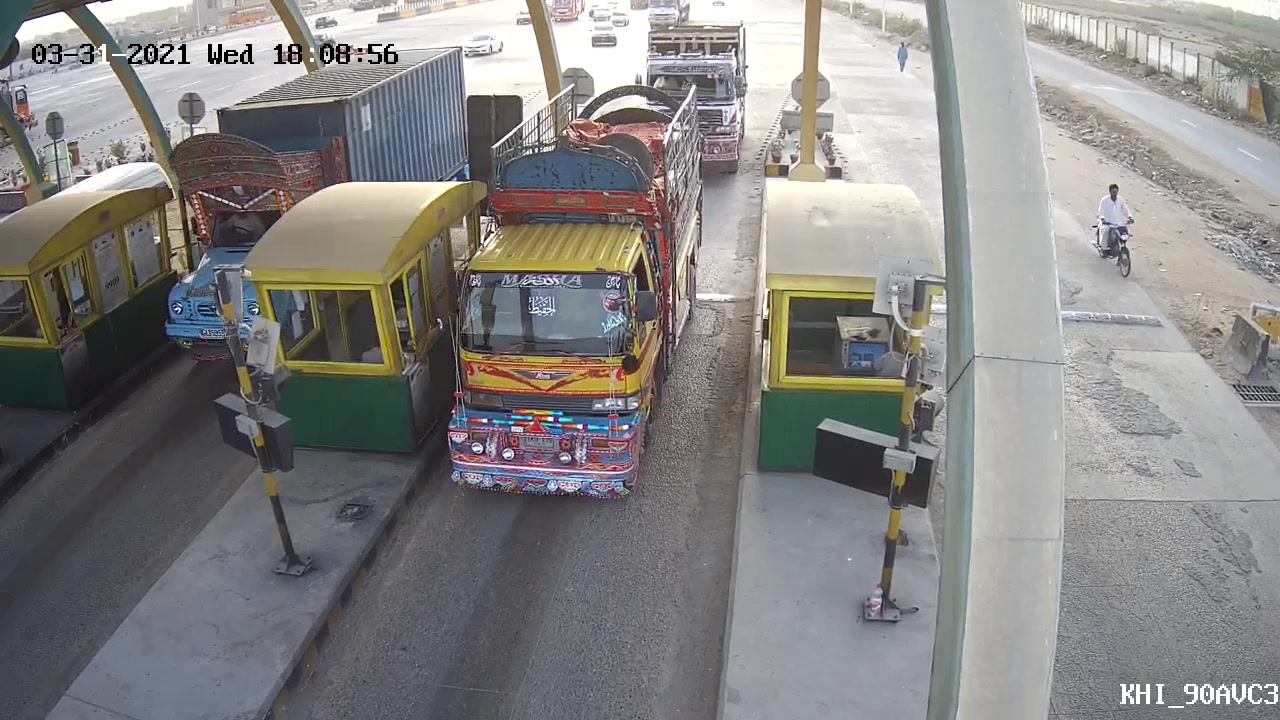F5: (432, 78, 704, 505)
